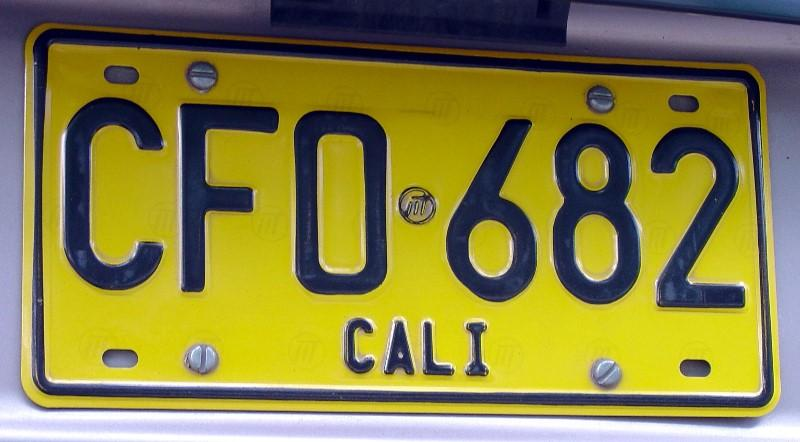placas: (14, 16, 792, 423)
